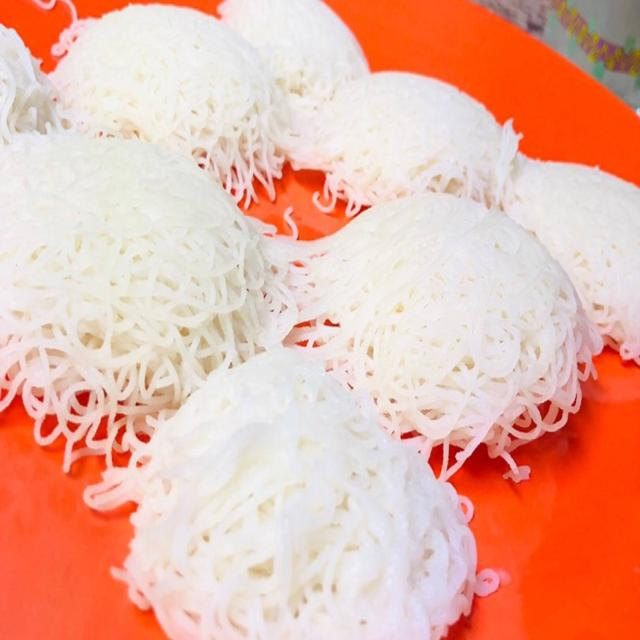IDIYAPPAM: (0, 0, 640, 639)
